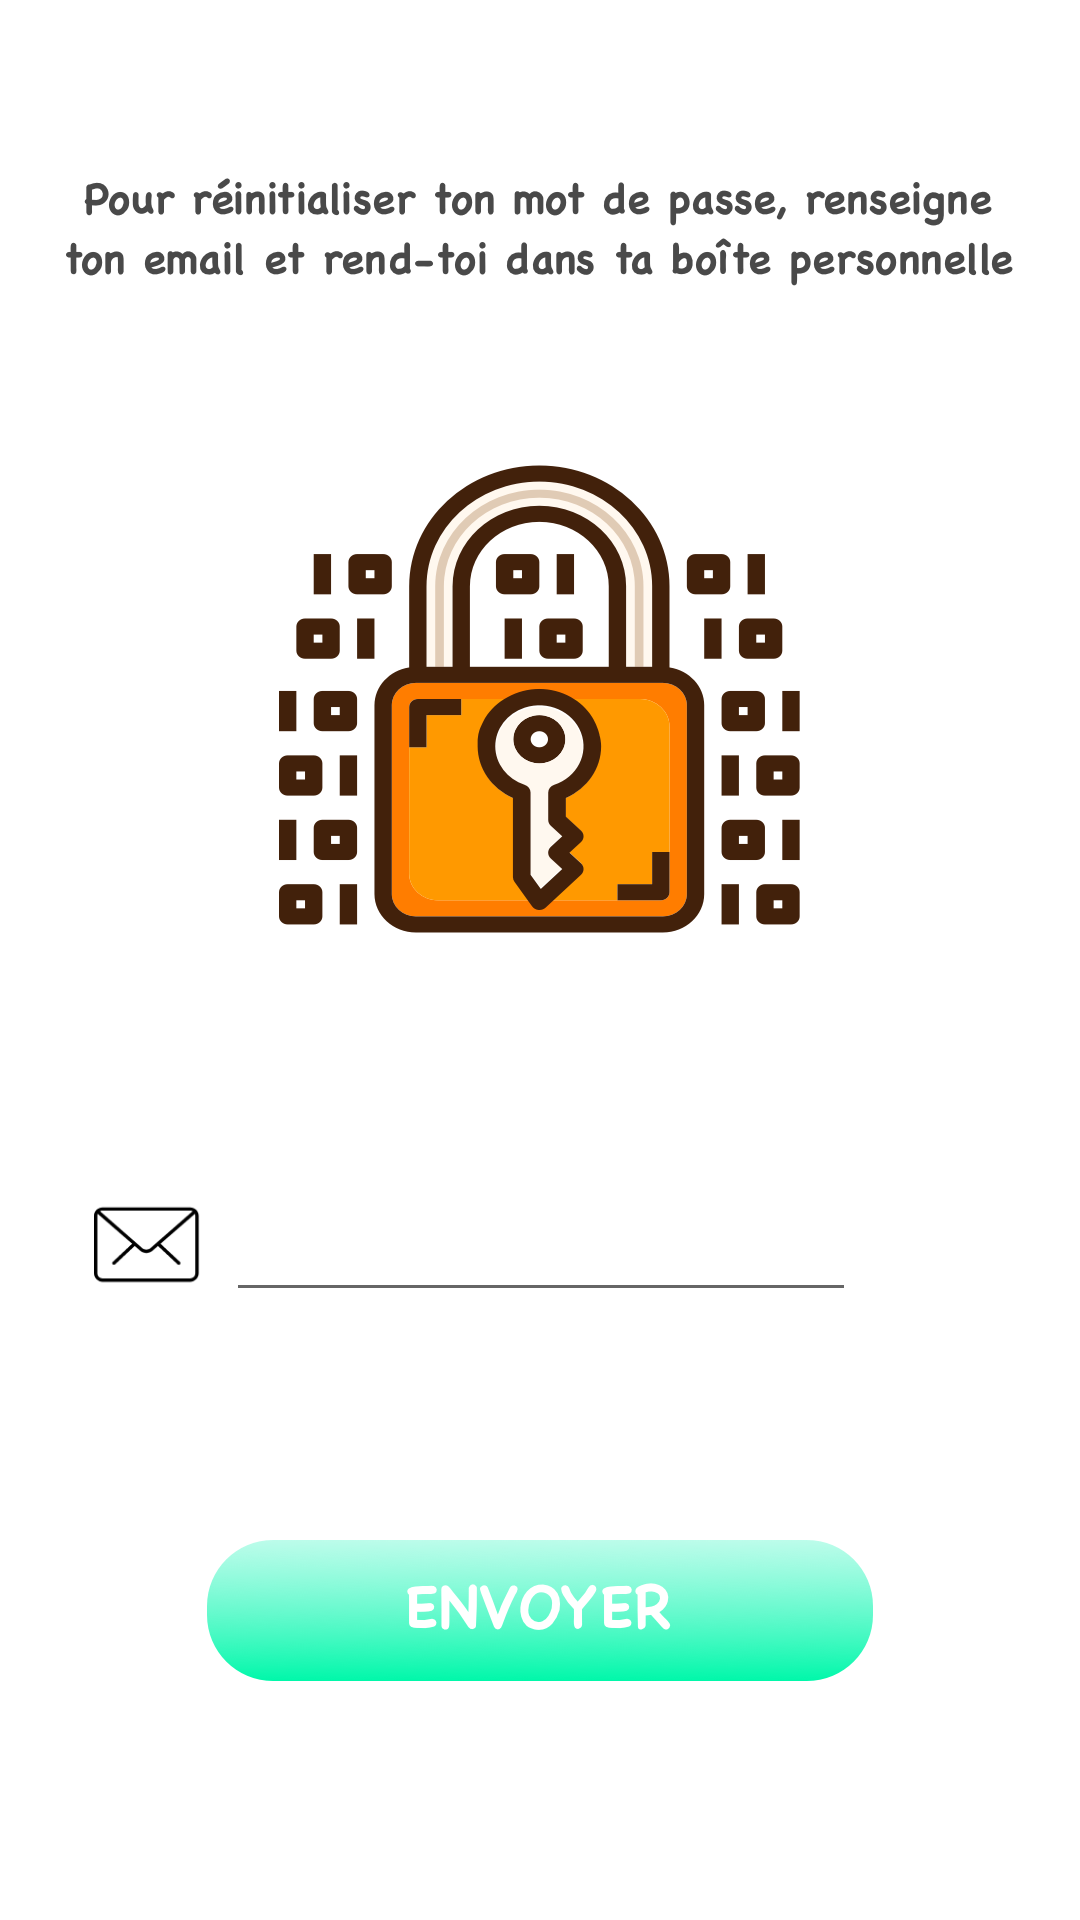

Locate icon controls on the screen. Image size 1080px x 1920px, boxes as [left=x1, top=y1, right=x2, bottom=y2].
mail: [left=94, top=1207, right=199, bottom=1283]
